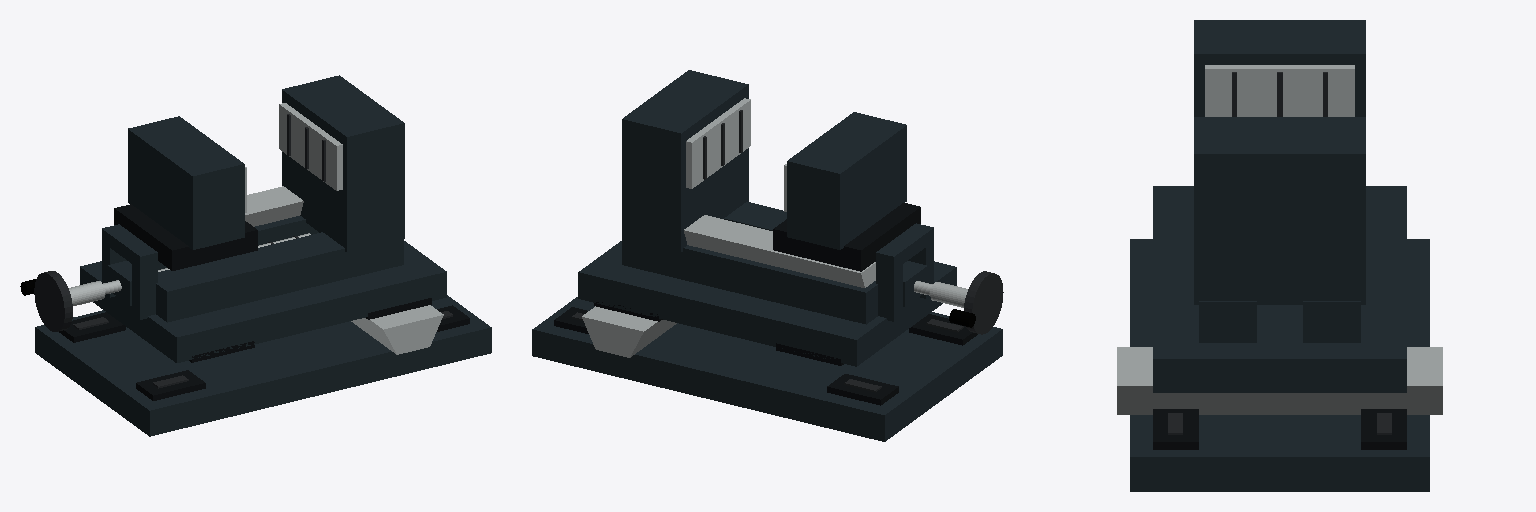
URDF robot description (cross_slide_milling_vise):
<robot name="cross_slide_milling_vise">
  <material name="painted_cast_iron">
    <color rgba="0.16 0.2 0.22 1" />
    </material>
  <material name="dark_cast_iron">
    <color rgba="0.09 0.1 0.11 1" />
    </material>
  <material name="machined_steel">
    <color rgba="0.68 0.7 0.7 1" />
    </material>
  <material name="blued_steel">
    <color rgba="0.18 0.19 0.2 1" />
    </material>
  <material name="black_handle">
    <color rgba="0.02 0.02 0.018 1" />
    </material>
  <link name="base">
    <visual name="base_plate">
      <origin xyz="0 0 0.0225" rpy="0 0 0" />
      <geometry>
        <box size="0.62 0.36 0.045" />
        </geometry>
      <material name="painted_cast_iron" />
      </visual>
    <visual name="base_way_0">
      <origin xyz="-0.16 0 0.045" rpy="0 0 0" />
      <geometry>
        <mesh filename="assets/meshes/base_way_0.obj" />
        </geometry>
      <material name="machined_steel" />
      </visual>
    <visual name="base_way_1">
      <origin xyz="0.16 0 0.045" rpy="0 0 0" />
      <geometry>
        <mesh filename="assets/meshes/base_way_1.obj" />
        </geometry>
      <material name="machined_steel" />
      </visual>
    <visual name="clamp_pad_-0.24_-0.125">
      <origin xyz="-0.24 -0.125 0.05" rpy="0 0 0" />
      <geometry>
        <box size="0.095 0.055 0.01" />
        </geometry>
      <material name="dark_cast_iron" />
      </visual>
    <visual name="bolt_slot_-0.24_-0.125">
      <origin xyz="-0.24 -0.125 0.056" rpy="0 0 0" />
      <geometry>
        <box size="0.055 0.018 0.004" />
        </geometry>
      <material name="blued_steel" />
      </visual>
    <visual name="clamp_pad_-0.24_0.125">
      <origin xyz="-0.24 0.125 0.05" rpy="0 0 0" />
      <geometry>
        <box size="0.095 0.055 0.01" />
        </geometry>
      <material name="dark_cast_iron" />
      </visual>
    <visual name="bolt_slot_-0.24_0.125">
      <origin xyz="-0.24 0.125 0.056" rpy="0 0 0" />
      <geometry>
        <box size="0.055 0.018 0.004" />
        </geometry>
      <material name="blued_steel" />
      </visual>
    <visual name="clamp_pad_0.24_-0.125">
      <origin xyz="0.24 -0.125 0.05" rpy="0 0 0" />
      <geometry>
        <box size="0.095 0.055 0.01" />
        </geometry>
      <material name="dark_cast_iron" />
      </visual>
    <visual name="bolt_slot_0.24_-0.125">
      <origin xyz="0.24 -0.125 0.056" rpy="0 0 0" />
      <geometry>
        <box size="0.055 0.018 0.004" />
        </geometry>
      <material name="blued_steel" />
      </visual>
    <visual name="clamp_pad_0.24_0.125">
      <origin xyz="0.24 0.125 0.05" rpy="0 0 0" />
      <geometry>
        <box size="0.095 0.055 0.01" />
        </geometry>
      <material name="dark_cast_iron" />
      </visual>
    <visual name="bolt_slot_0.24_0.125">
      <origin xyz="0.24 0.125 0.056" rpy="0 0 0" />
      <geometry>
        <box size="0.055 0.018 0.004" />
        </geometry>
      <material name="blued_steel" />
      </visual>
    <collision name="base_plate">
      <origin xyz="0 0 0.0225" rpy="0 0 0" />
      <geometry>
        <box size="0.62 0.36 0.045" />
        </geometry>
      </collision>
    <collision name="base_way_0">
      <origin xyz="-0.16 0 0.045" rpy="0 0 0" />
      <geometry>
        <mesh filename="assets/meshes/base_way_0.obj" />
        </geometry>
      </collision>
    <collision name="base_way_1">
      <origin xyz="0.16 0 0.045" rpy="0 0 0" />
      <geometry>
        <mesh filename="assets/meshes/base_way_1.obj" />
        </geometry>
      </collision>
    <collision name="clamp_pad_-0.24_-0.125">
      <origin xyz="-0.24 -0.125 0.05" rpy="0 0 0" />
      <geometry>
        <box size="0.095 0.055 0.01" />
        </geometry>
      </collision>
    <collision name="bolt_slot_-0.24_-0.125">
      <origin xyz="-0.24 -0.125 0.056" rpy="0 0 0" />
      <geometry>
        <box size="0.055 0.018 0.004" />
        </geometry>
      </collision>
    <collision name="clamp_pad_-0.24_0.125">
      <origin xyz="-0.24 0.125 0.05" rpy="0 0 0" />
      <geometry>
        <box size="0.095 0.055 0.01" />
        </geometry>
      </collision>
    <collision name="bolt_slot_-0.24_0.125">
      <origin xyz="-0.24 0.125 0.056" rpy="0 0 0" />
      <geometry>
        <box size="0.055 0.018 0.004" />
        </geometry>
      </collision>
    <collision name="clamp_pad_0.24_-0.125">
      <origin xyz="0.24 -0.125 0.05" rpy="0 0 0" />
      <geometry>
        <box size="0.095 0.055 0.01" />
        </geometry>
      </collision>
    <collision name="bolt_slot_0.24_-0.125">
      <origin xyz="0.24 -0.125 0.056" rpy="0 0 0" />
      <geometry>
        <box size="0.055 0.018 0.004" />
        </geometry>
      </collision>
    <collision name="clamp_pad_0.24_0.125">
      <origin xyz="0.24 0.125 0.05" rpy="0 0 0" />
      <geometry>
        <box size="0.095 0.055 0.01" />
        </geometry>
      </collision>
    <collision name="bolt_slot_0.24_0.125">
      <origin xyz="0.24 0.125 0.056" rpy="0 0 0" />
      <geometry>
        <box size="0.055 0.018 0.004" />
        </geometry>
      </collision>
    </link>
  <link name="cross_slide">
    <visual name="lower_saddle_0">
      <origin xyz="-0.16 0 0.006" rpy="0 0 0" />
      <geometry>
        <box size="0.115 0.305 0.012" />
        </geometry>
      <material name="dark_cast_iron" />
      </visual>
    <visual name="lower_saddle_1">
      <origin xyz="0.16 0 0.006" rpy="0 0 0" />
      <geometry>
        <box size="0.115 0.305 0.012" />
        </geometry>
      <material name="dark_cast_iron" />
      </visual>
    <visual name="cross_plate">
      <origin xyz="0 0 0.028" rpy="0 0 0" />
      <geometry>
        <box size="0.49 0.305 0.045" />
        </geometry>
      <material name="painted_cast_iron" />
      </visual>
    <visual name="bed_bar_0">
      <origin xyz="-0.015 -0.062 0.075" rpy="0 0 0" />
      <geometry>
        <box size="0.43 0.07 0.058" />
        </geometry>
      <material name="painted_cast_iron" />
      </visual>
    <visual name="bed_bar_1">
      <origin xyz="-0.015 0.062 0.075" rpy="0 0 0" />
      <geometry>
        <box size="0.43 0.07 0.058" />
        </geometry>
      <material name="painted_cast_iron" />
      </visual>
    <visual name="jaw_way_0">
      <origin xyz="-0.025 -0.064 0.104" rpy="0 0 0" />
      <geometry>
        <mesh filename="assets/meshes/jaw_way_0.obj" />
        </geometry>
      <material name="machined_steel" />
      </visual>
    <visual name="jaw_way_1">
      <origin xyz="-0.025 0.064 0.104" rpy="0 0 0" />
      <geometry>
        <mesh filename="assets/meshes/jaw_way_1.obj" />
        </geometry>
      <material name="machined_steel" />
      </visual>
    <visual name="rear_jaw_block">
      <origin xyz="0.145 0 0.234" rpy="0 0 0" />
      <geometry>
        <box size="0.105 0.205 0.13" />
        </geometry>
      <material name="painted_cast_iron" />
      </visual>
    <visual name="rear_jaw_pedestal">
      <origin xyz="0.145 0 0.135" rpy="0 0 0" />
      <geometry>
        <box size="0.105 0.205 0.072" />
        </geometry>
      <material name="painted_cast_iron" />
      </visual>
    <visual name="rear_jaw_face">
      <origin xyz="0.087 0 0.242" rpy="0 0 0" />
      <geometry>
        <box size="0.012 0.18 0.078" />
        </geometry>
      <material name="machined_steel" />
      </visual>
    <visual name="rear_face_groove_-0.055">
      <origin xyz="0.079 -0.055 0.242" rpy="0 0 0" />
      <geometry>
        <box size="0.004 0.006 0.07" />
        </geometry>
      <material name="blued_steel" />
      </visual>
    <visual name="rear_face_groove_0.0">
      <origin xyz="0.079 0 0.242" rpy="0 0 0" />
      <geometry>
        <box size="0.004 0.006 0.07" />
        </geometry>
      <material name="blued_steel" />
      </visual>
    <visual name="rear_face_groove_0.055">
      <origin xyz="0.079 0.055 0.242" rpy="0 0 0" />
      <geometry>
        <box size="0.004 0.006 0.07" />
        </geometry>
      <material name="blued_steel" />
      </visual>
    <visual name="screw_post_0">
      <origin xyz="-0.242 -0.048 0.091" rpy="0 0 0" />
      <geometry>
        <box size="0.032 0.026 0.088" />
        </geometry>
      <material name="painted_cast_iron" />
      </visual>
    <visual name="screw_post_1">
      <origin xyz="-0.242 0.048 0.091" rpy="0 0 0" />
      <geometry>
        <box size="0.032 0.026 0.088" />
        </geometry>
      <material name="painted_cast_iron" />
      </visual>
    <visual name="screw_bearing">
      <origin xyz="-0.242 0 0.083" rpy="0 0 0" />
      <geometry>
        <box size="0.04 0.07 0.042" />
        </geometry>
      <material name="painted_cast_iron" />
      </visual>
    <visual name="screw_bridge">
      <origin xyz="-0.242 0 0.145" rpy="0 0 0" />
      <geometry>
        <box size="0.032 0.122 0.023" />
        </geometry>
      <material name="painted_cast_iron" />
      </visual>
    <collision name="lower_saddle_0">
      <origin xyz="-0.16 0 0.006" rpy="0 0 0" />
      <geometry>
        <box size="0.115 0.305 0.012" />
        </geometry>
      </collision>
    <collision name="lower_saddle_1">
      <origin xyz="0.16 0 0.006" rpy="0 0 0" />
      <geometry>
        <box size="0.115 0.305 0.012" />
        </geometry>
      </collision>
    <collision name="cross_plate">
      <origin xyz="0 0 0.028" rpy="0 0 0" />
      <geometry>
        <box size="0.49 0.305 0.045" />
        </geometry>
      </collision>
    <collision name="bed_bar_0">
      <origin xyz="-0.015 -0.062 0.075" rpy="0 0 0" />
      <geometry>
        <box size="0.43 0.07 0.058" />
        </geometry>
      </collision>
    <collision name="bed_bar_1">
      <origin xyz="-0.015 0.062 0.075" rpy="0 0 0" />
      <geometry>
        <box size="0.43 0.07 0.058" />
        </geometry>
      </collision>
    <collision name="jaw_way_0">
      <origin xyz="-0.025 -0.064 0.104" rpy="0 0 0" />
      <geometry>
        <mesh filename="assets/meshes/jaw_way_0.obj" />
        </geometry>
      </collision>
    <collision name="jaw_way_1">
      <origin xyz="-0.025 0.064 0.104" rpy="0 0 0" />
      <geometry>
        <mesh filename="assets/meshes/jaw_way_1.obj" />
        </geometry>
      </collision>
    <collision name="rear_jaw_block">
      <origin xyz="0.145 0 0.234" rpy="0 0 0" />
      <geometry>
        <box size="0.105 0.205 0.13" />
        </geometry>
      </collision>
    <collision name="rear_jaw_pedestal">
      <origin xyz="0.145 0 0.135" rpy="0 0 0" />
      <geometry>
        <box size="0.105 0.205 0.072" />
        </geometry>
      </collision>
    <collision name="rear_jaw_face">
      <origin xyz="0.087 0 0.242" rpy="0 0 0" />
      <geometry>
        <box size="0.012 0.18 0.078" />
        </geometry>
      </collision>
    <collision name="rear_face_groove_-0.055">
      <origin xyz="0.079 -0.055 0.242" rpy="0 0 0" />
      <geometry>
        <box size="0.004 0.006 0.07" />
        </geometry>
      </collision>
    <collision name="rear_face_groove_0.0">
      <origin xyz="0.079 0 0.242" rpy="0 0 0" />
      <geometry>
        <box size="0.004 0.006 0.07" />
        </geometry>
      </collision>
    <collision name="rear_face_groove_0.055">
      <origin xyz="0.079 0.055 0.242" rpy="0 0 0" />
      <geometry>
        <box size="0.004 0.006 0.07" />
        </geometry>
      </collision>
    <collision name="screw_post_0">
      <origin xyz="-0.242 -0.048 0.091" rpy="0 0 0" />
      <geometry>
        <box size="0.032 0.026 0.088" />
        </geometry>
      </collision>
    <collision name="screw_post_1">
      <origin xyz="-0.242 0.048 0.091" rpy="0 0 0" />
      <geometry>
        <box size="0.032 0.026 0.088" />
        </geometry>
      </collision>
    <collision name="screw_bearing">
      <origin xyz="-0.242 0 0.083" rpy="0 0 0" />
      <geometry>
        <box size="0.04 0.07 0.042" />
        </geometry>
      </collision>
    <collision name="screw_bridge">
      <origin xyz="-0.242 0 0.145" rpy="0 0 0" />
      <geometry>
        <box size="0.032 0.122 0.023" />
        </geometry>
      </collision>
    </link>
  <link name="leadscrew">
    <visual name="screw_shaft">
      <origin xyz="0 0 0" rpy="0 1.5708 0" />
      <geometry>
        <cylinder radius="0.009" length="0.38" />
        </geometry>
      <material name="machined_steel" />
      </visual>
    <visual name="thread_crest_0">
      <origin xyz="-0.15 0 0" rpy="0 1.5708 0" />
      <geometry>
        <cylinder radius="0.0105" length="0.004" />
        </geometry>
      <material name="blued_steel" />
      </visual>
    <visual name="thread_crest_1">
      <origin xyz="-0.105 0 0" rpy="0 1.5708 0" />
      <geometry>
        <cylinder radius="0.0105" length="0.004" />
        </geometry>
      <material name="blued_steel" />
      </visual>
    <visual name="thread_crest_2">
      <origin xyz="-0.06 0 0" rpy="0 1.5708 0" />
      <geometry>
        <cylinder radius="0.0105" length="0.004" />
        </geometry>
      <material name="blued_steel" />
      </visual>
    <visual name="thread_crest_3">
      <origin xyz="-0.015 0 0" rpy="0 1.5708 0" />
      <geometry>
        <cylinder radius="0.0105" length="0.004" />
        </geometry>
      <material name="blued_steel" />
      </visual>
    <visual name="thread_crest_4">
      <origin xyz="0.03 0 0" rpy="0 1.5708 0" />
      <geometry>
        <cylinder radius="0.0105" length="0.004" />
        </geometry>
      <material name="blued_steel" />
      </visual>
    <visual name="thread_crest_5">
      <origin xyz="0.075 0 0" rpy="0 1.5708 0" />
      <geometry>
        <cylinder radius="0.0105" length="0.004" />
        </geometry>
      <material name="blued_steel" />
      </visual>
    <visual name="thread_crest_6">
      <origin xyz="0.12 0 0" rpy="0 1.5708 0" />
      <geometry>
        <cylinder radius="0.0105" length="0.004" />
        </geometry>
      <material name="blued_steel" />
      </visual>
    <visual name="thread_crest_7">
      <origin xyz="0.165 0 0" rpy="0 1.5708 0" />
      <geometry>
        <cylinder radius="0.0105" length="0.004" />
        </geometry>
      <material name="blued_steel" />
      </visual>
    <visual name="wheel_hub">
      <origin xyz="-0.23 0 0" rpy="0 1.5708 0" />
      <geometry>
        <cylinder radius="0.015" length="0.08" />
        </geometry>
      <material name="machined_steel" />
      </visual>
    <visual name="handwheel">
      <origin xyz="-0.275 0 0" rpy="0 1.5708 0" />
      <geometry>
        <cylinder radius="0.048" length="0.015" />
        </geometry>
      <material name="blued_steel" />
      </visual>
    <visual name="wheel_spoke">
      <origin xyz="-0.275 0.022 0" rpy="1.5708 0 0" />
      <geometry>
        <cylinder radius="0.0045" length="0.1" />
        </geometry>
      <material name="machined_steel" />
      </visual>
    <visual name="spinner_knob">
      <origin xyz="-0.275 0.064 0" rpy="0 1.5708 0" />
      <geometry>
        <cylinder radius="0.011" length="0.034" />
        </geometry>
      <material name="black_handle" />
      </visual>
    <collision name="screw_shaft">
      <origin xyz="0 0 0" rpy="0 1.5708 0" />
      <geometry>
        <cylinder radius="0.009" length="0.38" />
        </geometry>
      </collision>
    <collision name="thread_crest_0">
      <origin xyz="-0.15 0 0" rpy="0 1.5708 0" />
      <geometry>
        <cylinder radius="0.0105" length="0.004" />
        </geometry>
      </collision>
    <collision name="thread_crest_1">
      <origin xyz="-0.105 0 0" rpy="0 1.5708 0" />
      <geometry>
        <cylinder radius="0.0105" length="0.004" />
        </geometry>
      </collision>
    <collision name="thread_crest_2">
      <origin xyz="-0.06 0 0" rpy="0 1.5708 0" />
      <geometry>
        <cylinder radius="0.0105" length="0.004" />
        </geometry>
      </collision>
    <collision name="thread_crest_3">
      <origin xyz="-0.015 0 0" rpy="0 1.5708 0" />
      <geometry>
        <cylinder radius="0.0105" length="0.004" />
        </geometry>
      </collision>
    <collision name="thread_crest_4">
      <origin xyz="0.03 0 0" rpy="0 1.5708 0" />
      <geometry>
        <cylinder radius="0.0105" length="0.004" />
        </geometry>
      </collision>
    <collision name="thread_crest_5">
      <origin xyz="0.075 0 0" rpy="0 1.5708 0" />
      <geometry>
        <cylinder radius="0.0105" length="0.004" />
        </geometry>
      </collision>
    <collision name="thread_crest_6">
      <origin xyz="0.12 0 0" rpy="0 1.5708 0" />
      <geometry>
        <cylinder radius="0.0105" length="0.004" />
        </geometry>
      </collision>
    <collision name="thread_crest_7">
      <origin xyz="0.165 0 0" rpy="0 1.5708 0" />
      <geometry>
        <cylinder radius="0.0105" length="0.004" />
        </geometry>
      </collision>
    <collision name="wheel_hub">
      <origin xyz="-0.23 0 0" rpy="0 1.5708 0" />
      <geometry>
        <cylinder radius="0.015" length="0.08" />
        </geometry>
      </collision>
    <collision name="handwheel">
      <origin xyz="-0.275 0 0" rpy="0 1.5708 0" />
      <geometry>
        <cylinder radius="0.048" length="0.015" />
        </geometry>
      </collision>
    <collision name="wheel_spoke">
      <origin xyz="-0.275 0.022 0" rpy="1.5708 0 0" />
      <geometry>
        <cylinder radius="0.0045" length="0.1" />
        </geometry>
      </collision>
    <collision name="spinner_knob">
      <origin xyz="-0.275 0.064 0" rpy="0 1.5708 0" />
      <geometry>
        <cylinder radius="0.011" length="0.034" />
        </geometry>
      </collision>
    </link>
  <link name="front_jaw">
    <visual name="jaw_saddle">
      <origin xyz="0 0 0.018" rpy="0 0 0" />
      <geometry>
        <box size="0.155 0.182 0.036" />
        </geometry>
      <material name="dark_cast_iron" />
      </visual>
    <visual name="front_jaw_block">
      <origin xyz="0 0 0.098" rpy="0 0 0" />
      <geometry>
        <box size="0.094 0.205 0.128" />
        </geometry>
      <material name="painted_cast_iron" />
      </visual>
    <visual name="front_jaw_face">
      <origin xyz="0.053 0 0.108" rpy="0 0 0" />
      <geometry>
        <box size="0.012 0.18 0.078" />
        </geometry>
      <material name="machined_steel" />
      </visual>
    <visual name="front_face_groove_-0.055">
      <origin xyz="0.06 -0.055 0.108" rpy="0 0 0" />
      <geometry>
        <box size="0.004 0.006 0.07" />
        </geometry>
      <material name="blued_steel" />
      </visual>
    <visual name="front_face_groove_0.0">
      <origin xyz="0.06 0 0.108" rpy="0 0 0" />
      <geometry>
        <box size="0.004 0.006 0.07" />
        </geometry>
      <material name="blued_steel" />
      </visual>
    <visual name="front_face_groove_0.055">
      <origin xyz="0.06 0.055 0.108" rpy="0 0 0" />
      <geometry>
        <box size="0.004 0.006 0.07" />
        </geometry>
      <material name="blued_steel" />
      </visual>
    <collision name="jaw_saddle">
      <origin xyz="0 0 0.018" rpy="0 0 0" />
      <geometry>
        <box size="0.155 0.182 0.036" />
        </geometry>
      </collision>
    <collision name="front_jaw_block">
      <origin xyz="0 0 0.098" rpy="0 0 0" />
      <geometry>
        <box size="0.094 0.205 0.128" />
        </geometry>
      </collision>
    <collision name="front_jaw_face">
      <origin xyz="0.053 0 0.108" rpy="0 0 0" />
      <geometry>
        <box size="0.012 0.18 0.078" />
        </geometry>
      </collision>
    <collision name="front_face_groove_-0.055">
      <origin xyz="0.06 -0.055 0.108" rpy="0 0 0" />
      <geometry>
        <box size="0.004 0.006 0.07" />
        </geometry>
      </collision>
    <collision name="front_face_groove_0.0">
      <origin xyz="0.06 0 0.108" rpy="0 0 0" />
      <geometry>
        <box size="0.004 0.006 0.07" />
        </geometry>
      </collision>
    <collision name="front_face_groove_0.055">
      <origin xyz="0.06 0.055 0.108" rpy="0 0 0" />
      <geometry>
        <box size="0.004 0.006 0.07" />
        </geometry>
      </collision>
    </link>
  <joint name="cross_travel" type="prismatic">
    <origin xyz="0 0 0.095" rpy="0 0 0" />
    <parent link="base" />
    <child link="cross_slide" />
    <axis xyz="0 1 0" />
    <limit effort="350" velocity="0.18" lower="-0.06" upper="0.06" />
    </joint>
  <joint name="leadscrew_turn" type="revolute">
    <origin xyz="-0.105 0 0.083" rpy="0 0 0" />
    <parent link="cross_slide" />
    <child link="leadscrew" />
    <axis xyz="1 0 0" />
    <limit effort="8" velocity="2.5" lower="0" upper="8" />
    </joint>
  <joint name="jaw_travel" type="prismatic">
    <origin xyz="-0.14 0 0.134" rpy="0 0 0" />
    <parent link="cross_slide" />
    <child link="front_jaw" />
    <axis xyz="1 0 0" />
    <limit effort="800" velocity="0.05" lower="0" upper="0.08" />
    </joint>
  </robot>

--- Render facts (derived) ---
Views: 3 orthographic renders of the robot side by side, from view 1: azimuth 30°, elevation 25°; view 2: azimuth 150°, elevation 25°; view 3: azimuth 270°, elevation 25°.
Robot: cross_slide_milling_vise — 4 links, 3 joints (1 revolute, 2 prismatic); root link base; default pose: all joints at 0.
Visible links, largest first — view 1: cross_slide, base, front_jaw, leadscrew; view 2: cross_slide, base, front_jaw, leadscrew; view 3: cross_slide, base, front_jaw.
Boxes of the visible links, box(x1,y1,x2,y2) form: cross_slide: box(80, 75, 446, 362); base: box(35, 295, 491, 436); front_jaw: box(114, 116, 257, 270); leadscrew: box(20, 233, 310, 331); cross_slide: box(578, 70, 956, 366); base: box(532, 297, 1002, 441); front_jaw: box(773, 112, 920, 271); leadscrew: box(914, 271, 1003, 334); cross_slide: box(1153, 117, 1406, 392); base: box(1117, 239, 1442, 491); front_jaw: box(1194, 20, 1365, 116).
Bounding box of the posed robot: 0.707 × 0.39 × 0.394 m (x, y, z).
Meshes: 4 distinct files referenced, 2 mesh visuals loaded (2 OBJ); not drawn: 2 (reference not matched to a file when rendering).
